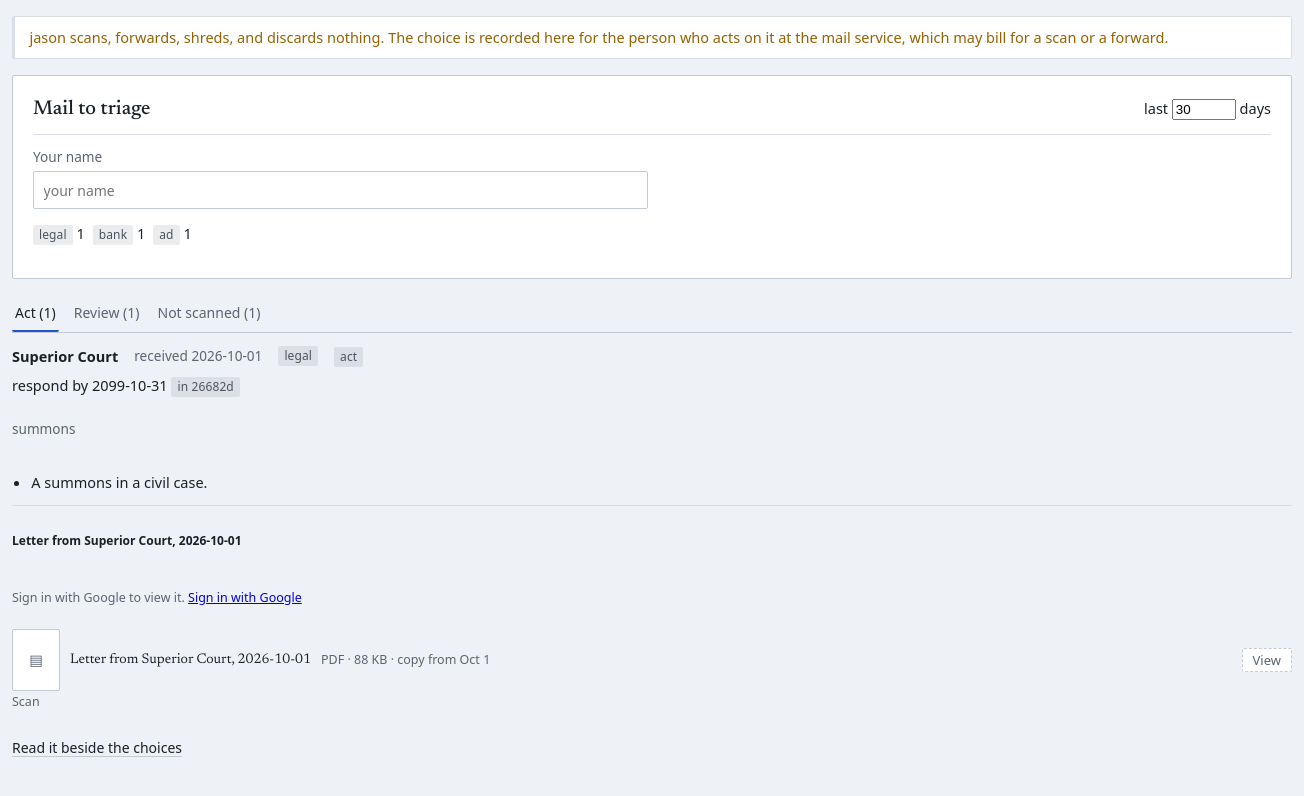
Test: MailTriageView › renders the lanes with each letter's facts and the recorded choice
Expected: the text "Superior Court" is shown, [12, 346, 118, 367]
Expected: the text "jason scans, forwards, shreds, and discards nothing. The choice" is shown, [29, 27, 1168, 47]
Click the tab "Not scanned (1)" at [209, 314], box [154, 295, 264, 332]
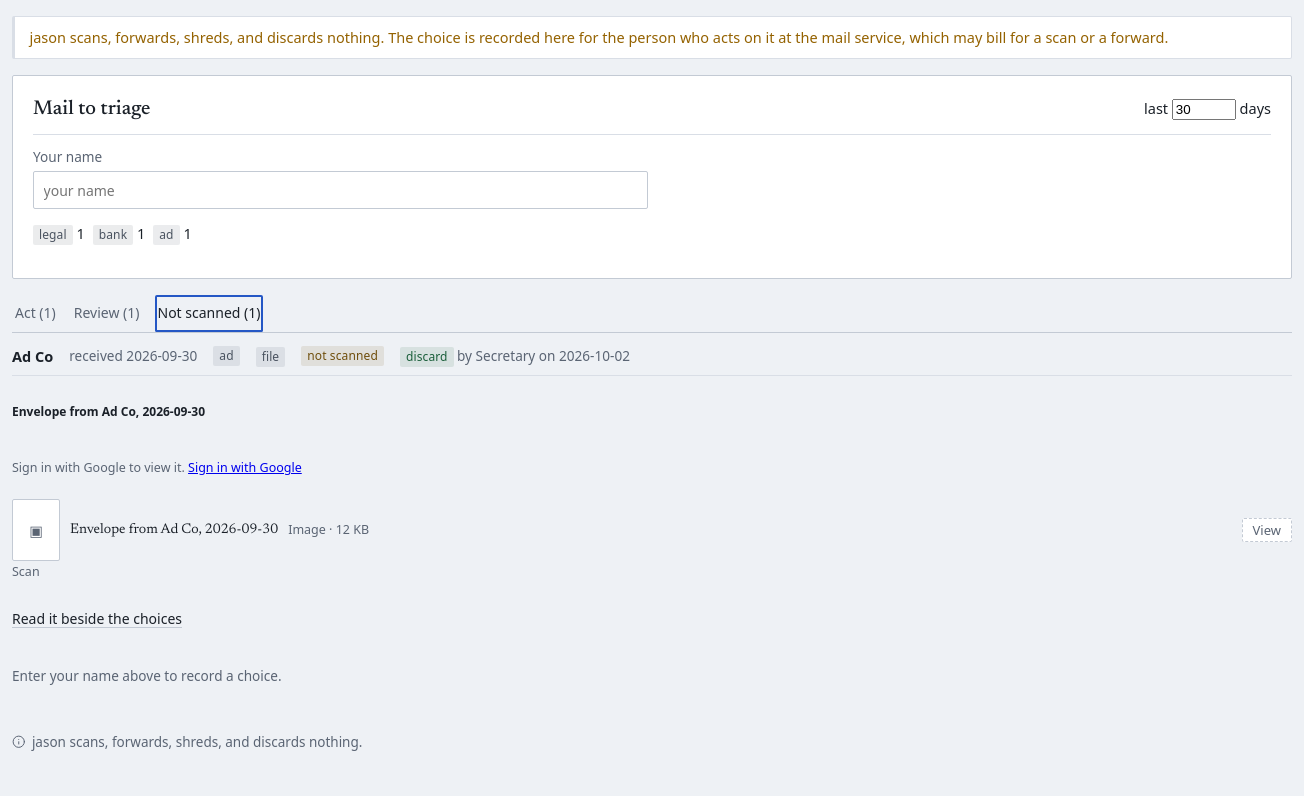
Expected: the text "discard" is shown, [400, 347, 454, 367]
Expected: the text "by Secretary on 2026-10-02" is shown, [457, 346, 630, 365]
Expected: the text "not scanned" is shown, [301, 346, 384, 366]
